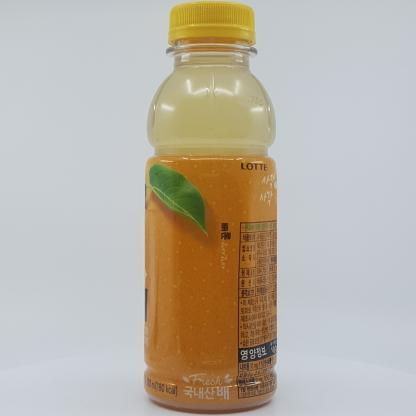--------380ML: (143, 1, 277, 410)
